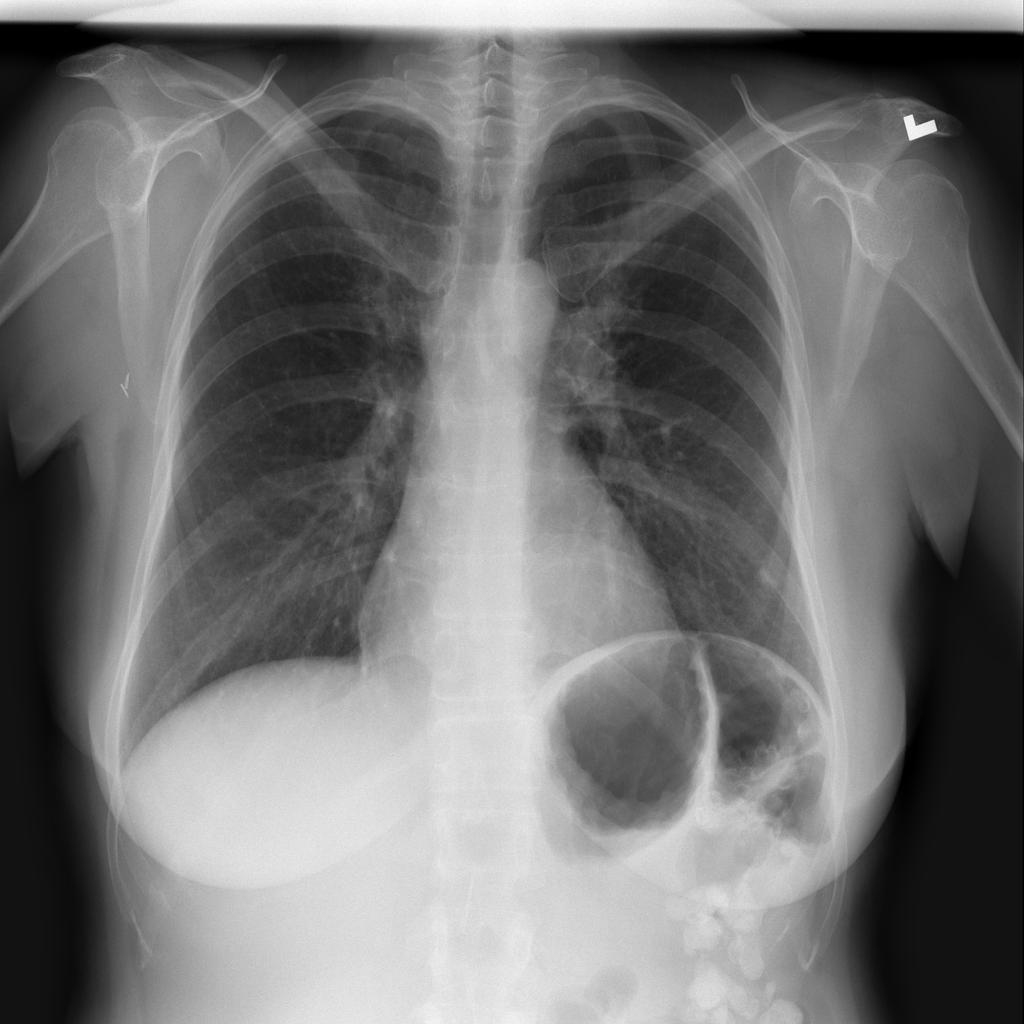nodule: (744, 544, 795, 598)
